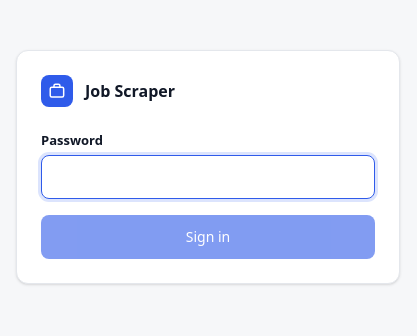
Test case: shows the server's message
Type "pw" into the password field labelled "Password" at (208, 177), box [41,155,375,199]
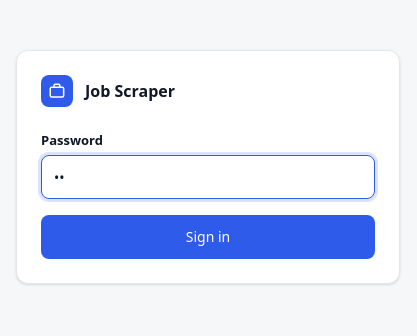
Click the button "Sign in" at (208, 237), box [41,215,375,259]
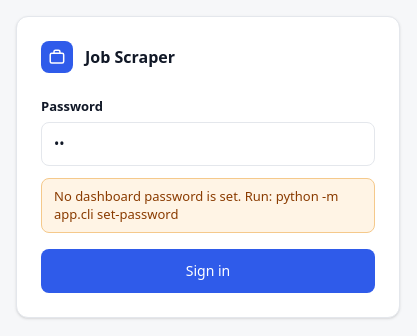
Now the message shows "set-password", box [54,187,338,223]
